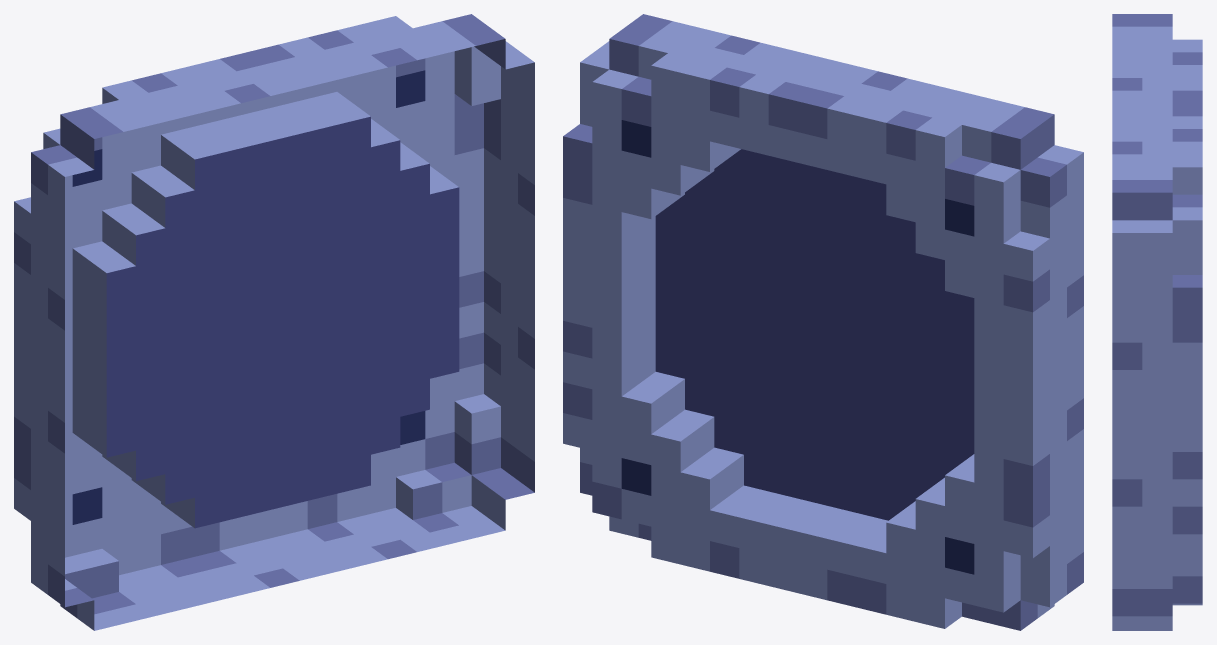
File: BIGButtonBase1.fbx
3 renders of one model, left to right at view 1: azimuth 30°, elevation 25°; view 2: azimuth 150°, elevation 25°; view 3: azimuth 270°, elevation 25°, orthographic. The views are drawn at different scales.
Parts seen in each view (by area): view 1: HuecoBotonGordo; view 2: HuecoBotonGordo; view 3: HuecoBotonGordo.
Boxes of the visible parts, x1=… form: HuecoBotonGordo: x1=14, y1=14, x2=534, y2=630; HuecoBotonGordo: x1=563, y1=14, x2=1083, y2=630; HuecoBotonGordo: x1=1112, y1=14, x2=1202, y2=630.
Bounding box in the file's own units: 1600 × 1600 × 300.
